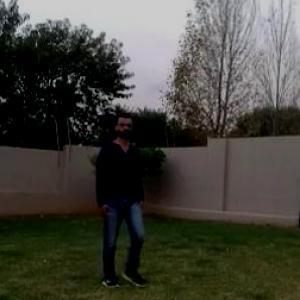follow: (101, 113, 141, 269)
